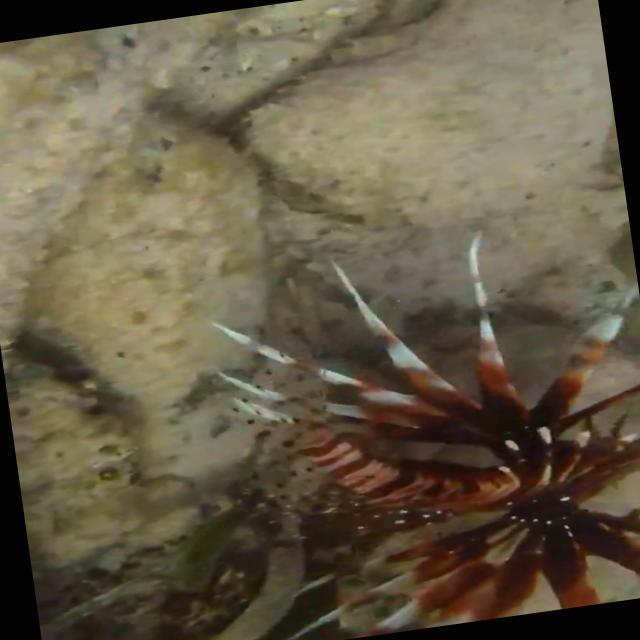Aslan Baligi: (190, 203, 640, 640)
